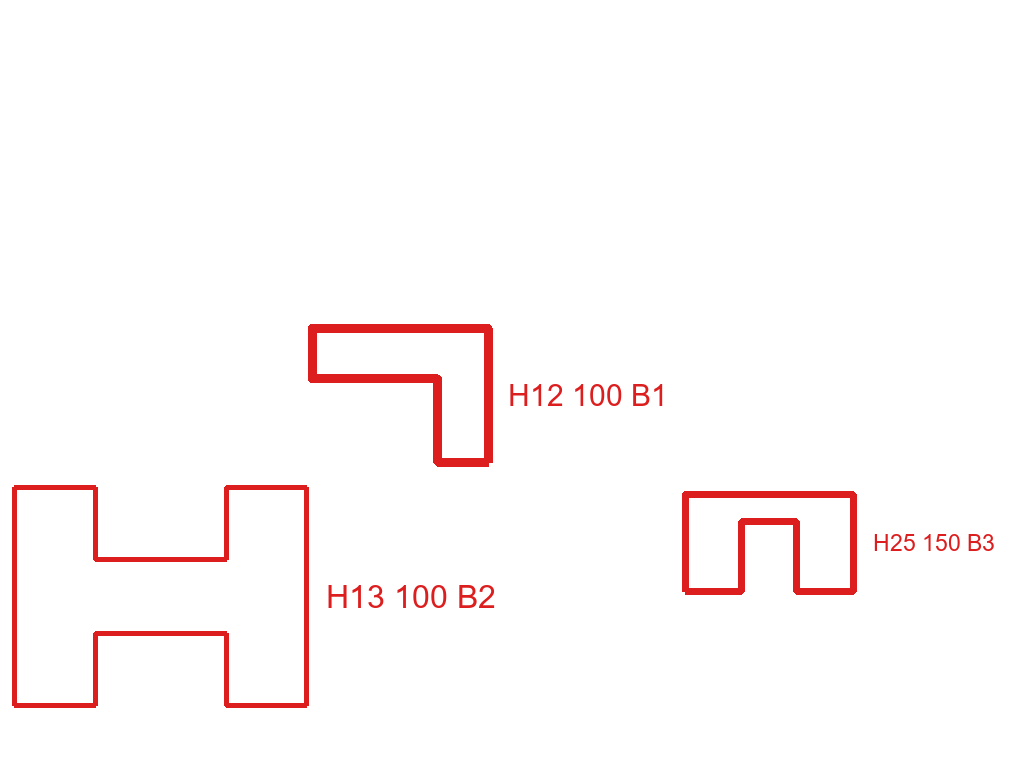shape: (10, 483, 311, 710), (306, 322, 495, 469), (680, 489, 859, 597)
text: (324, 583, 498, 610), (506, 382, 670, 408), (871, 532, 997, 553)
